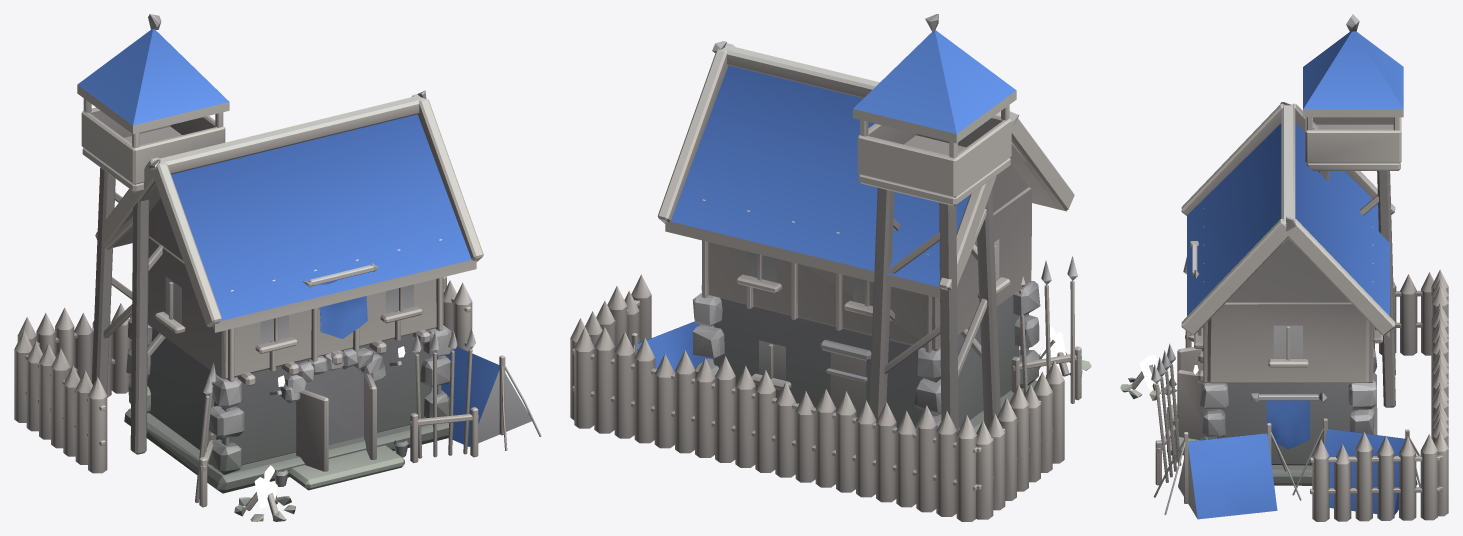
Rendered from barracks_2_5.glb.
The picture shows the model from 3 angles, left to right: view 1: azimuth 30°, elevation 25°; view 2: azimuth 150°, elevation 25°; view 3: azimuth 270°, elevation 25°; orthographic projection. The views are drawn at different scales.
Visible parts, largest first — view 1: Tower; view 2: Tower; view 3: Tower.
Part boxes in pixels (box(x1,y1,x2,y2)): Tower: box(14, 14, 541, 521); Tower: box(570, 14, 1091, 521); Tower: box(1120, 14, 1448, 521).
Bounding box in the file's own units: 4.72 × 4.8 × 3.79.
